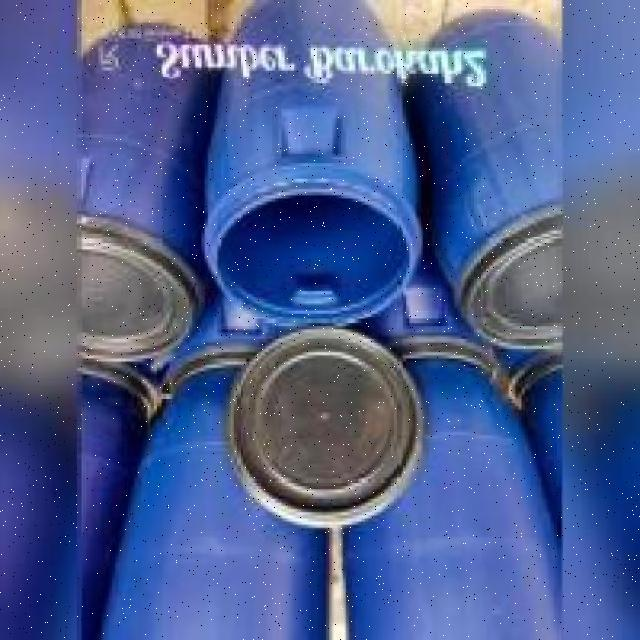garbage container: (206, 4, 434, 324), (423, 11, 568, 353), (78, 27, 203, 367)
